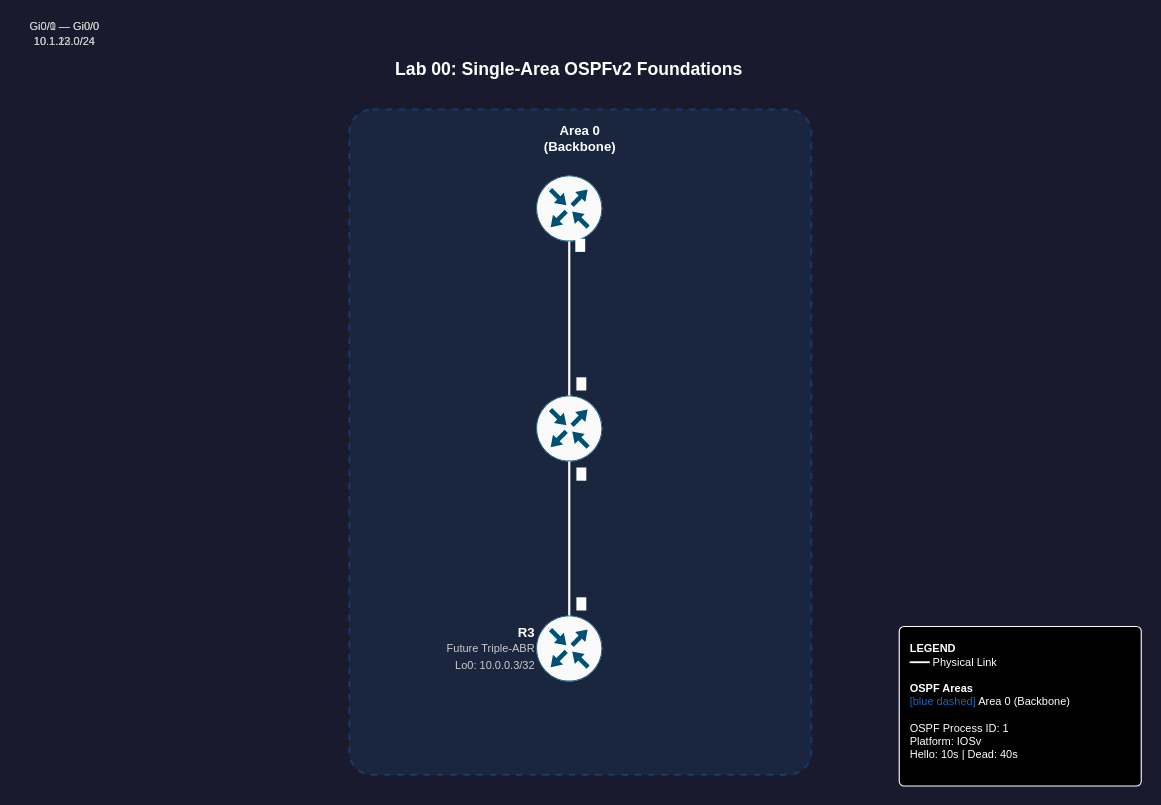
Image size: 1161x805. Some labels were removed from this diagram. Here are the shapes that lost their labels. From the top down, the centre of each, then its label:
At pixel 568 207: "R1 Area 0 Router Lo0: 10.0.0.1/32 Lo1: 172.16.1.1/24".
At pixel 568 427: "R2 Future ABR (Areas 0 and 1) Lo0: 10.0.0.2/32".
